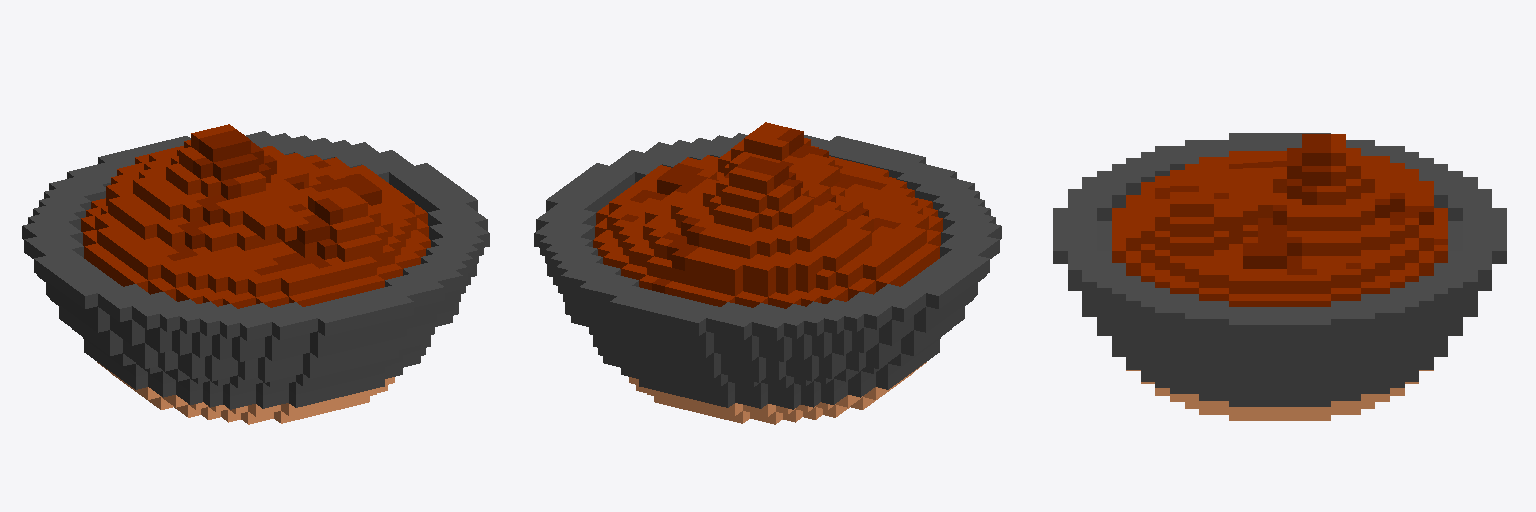
3 views of the same model, side by side, from view 1: azimuth 30°, elevation 25°; view 2: azimuth 150°, elevation 25°; view 3: azimuth 270°, elevation 25° (orthographic).
Bounding box in the file's own units: 31 × 16 × 31.
1 materials, 1 textured.